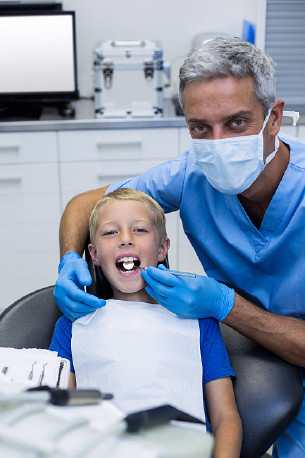face: (95, 196, 157, 293)
face_mask: (186, 78, 262, 196)
